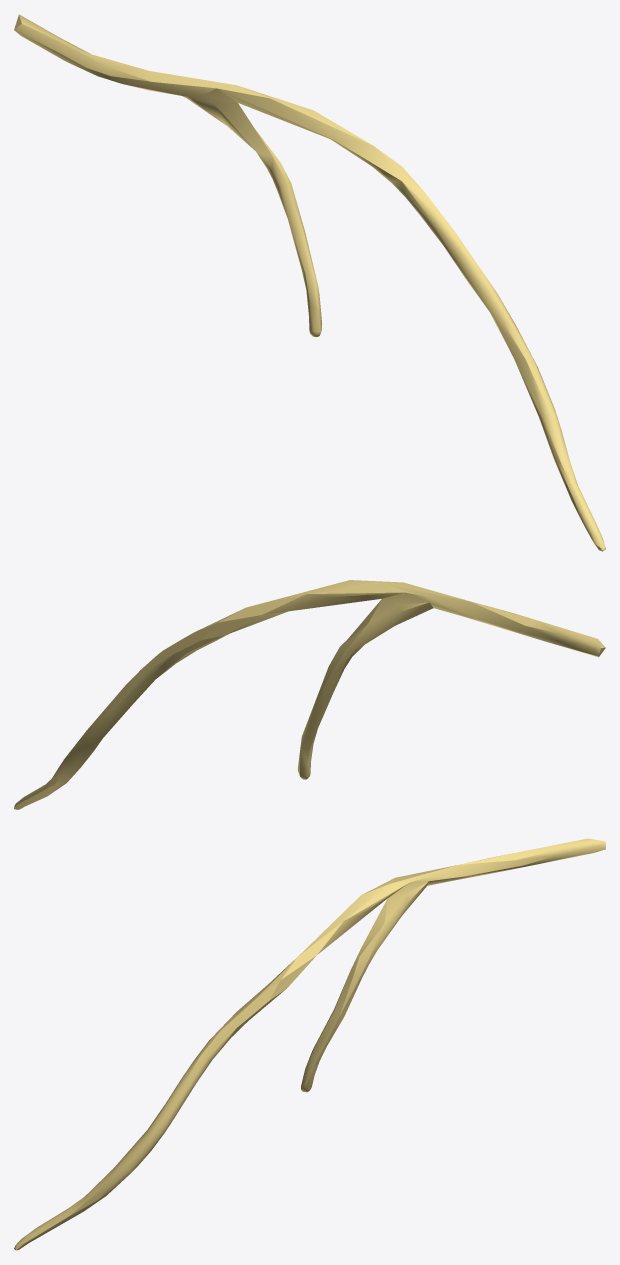
The model's file is fma52709_fj4009.glb.
The picture shows the model from 3 angles, top to bottom: view 1: azimuth 30°, elevation 25°; view 2: azimuth 210°, elevation 25°; view 3: azimuth 270°, elevation 25°; orthographic projection. The views are drawn at different scales.
Parts seen in each view (by area): view 1: FMA52709_FJ4009; view 2: FMA52709_FJ4009; view 3: FMA52709_FJ4009.
Boxes of the visible parts, left/top/right/bottom form: FMA52709_FJ4009: left=14, top=14, right=605, bottom=551; FMA52709_FJ4009: left=14, top=580, right=605, bottom=809; FMA52709_FJ4009: left=14, top=838, right=605, bottom=1250.
Size of the model in its own units: 0.0119 by 0.0147 by 0.0259.
